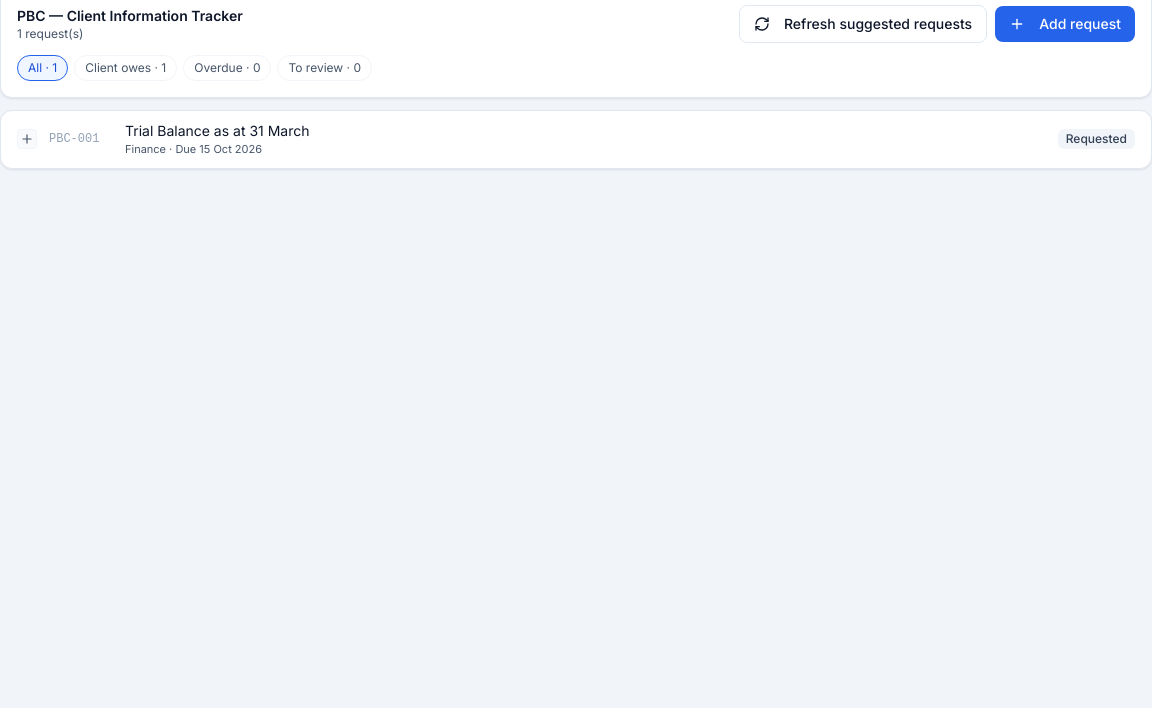
Test case: PBC tracker inline panels › lists requests compactly and opens a request inline under its row
Check: the text "Signed copy please" is not shown
Click the button "PBC-001" at (74, 139), box [1, 111, 1151, 168]
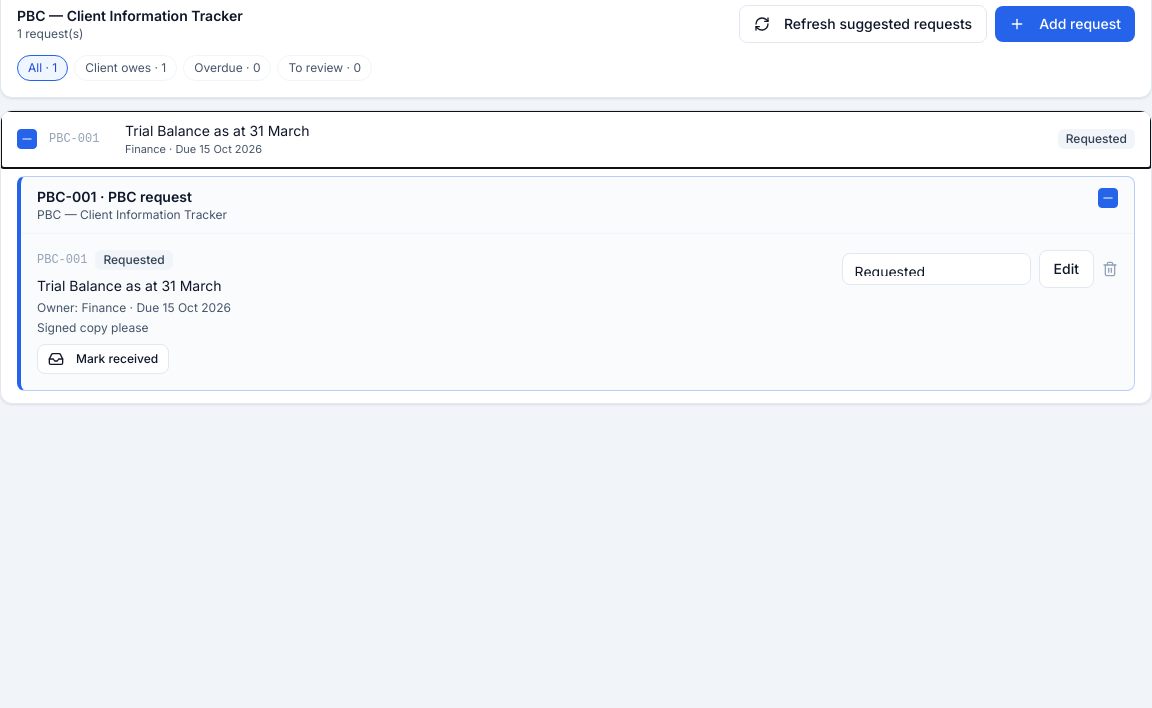
Check: the text "Signed copy please" is shown, box [37, 320, 148, 334]
Check: the dropdown titled "Change status" is shown, box [842, 252, 1031, 284]
Click the button "Edit" at (1066, 268), box [1039, 250, 1094, 288]
(page scrolled)
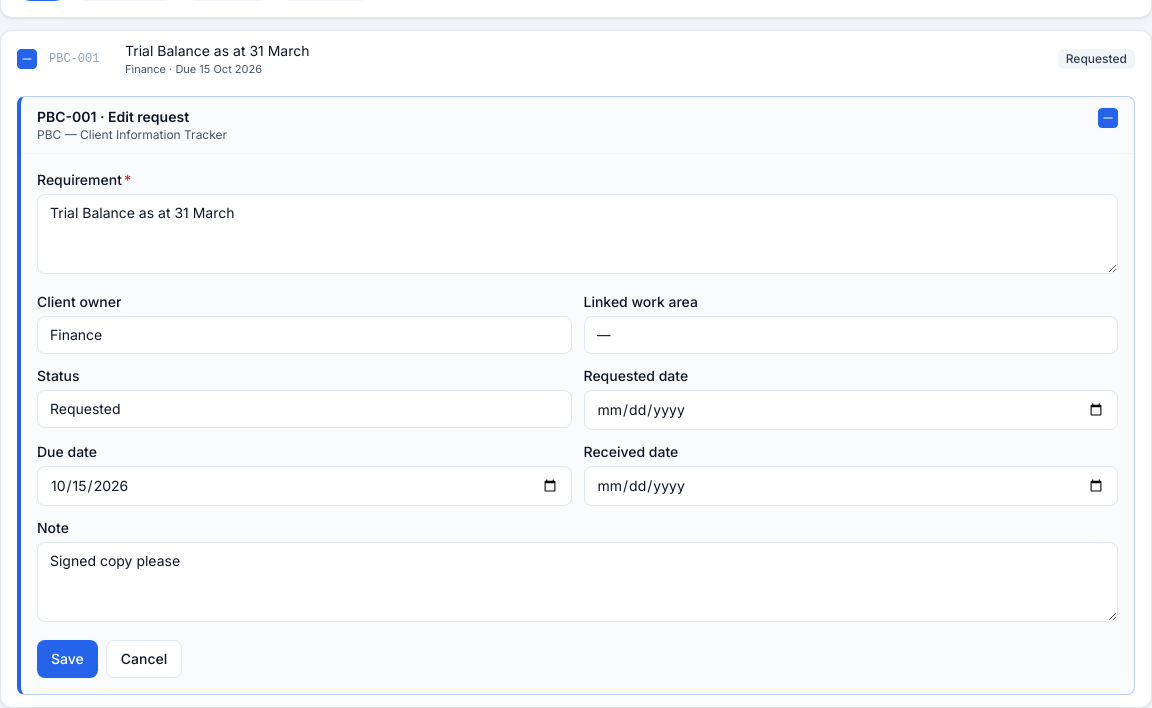
Check: the element "PBC-001 · Edit request" is shown
